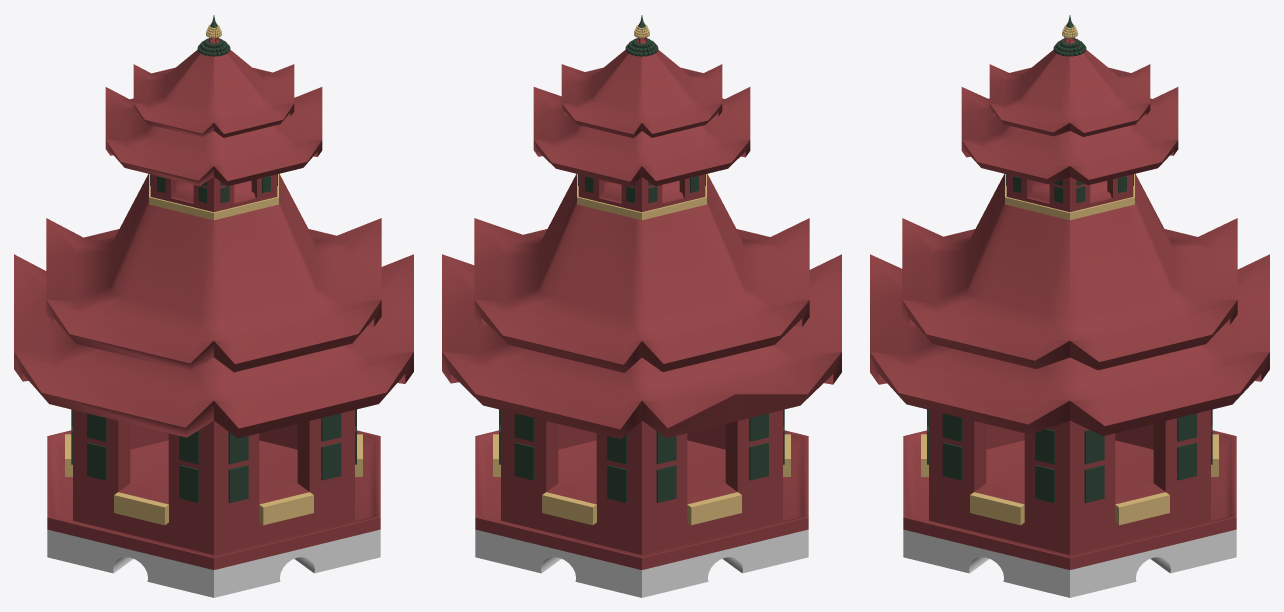
File: ancientpavi1.fbx
3 renders of one model, left to right at view 1: azimuth 30°, elevation 25°; view 2: azimuth 150°, elevation 25°; view 3: azimuth 270°, elevation 25°, orthographic.
Visible parts, largest first — view 1: pCube32; view 2: pCube32; view 3: pCube32.
Boxes of the visible parts, left/top/right/bottom form: pCube32: left=14, top=15, right=413, bottom=597; pCube32: left=442, top=15, right=841, bottom=597; pCube32: left=870, top=15, right=1269, bottom=597.
Bounding box in the file's own units: 4.62 × 5.55 × 4.
